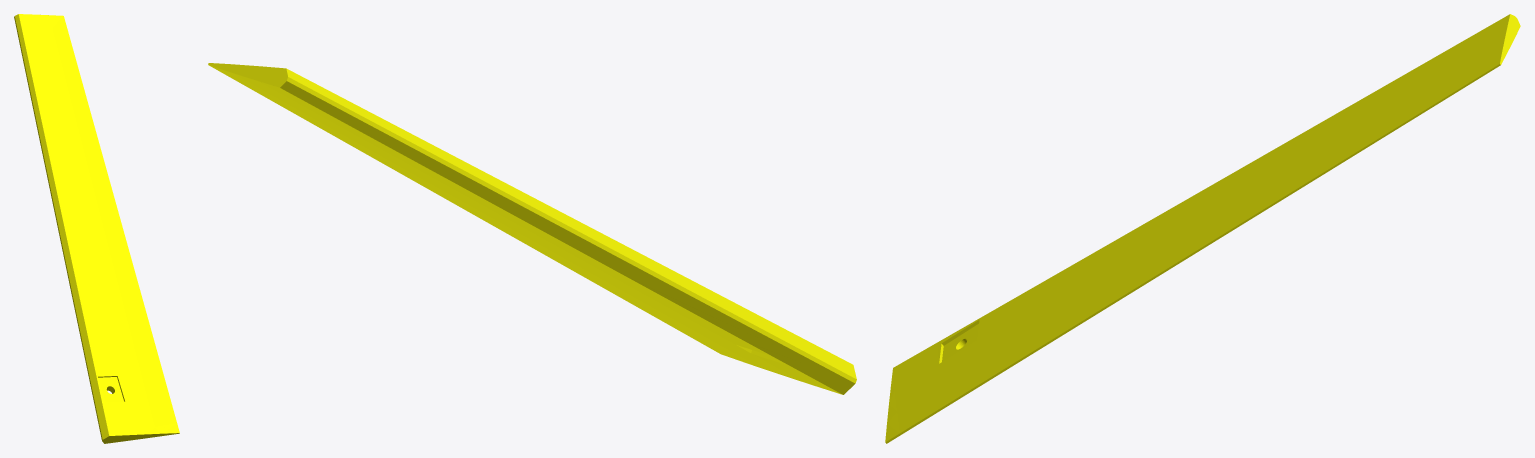
Rendered from believer_taileron_right.dae.
3 renders of one model, left to right at view 1: azimuth 30°, elevation 25°; view 2: azimuth 150°, elevation 25°; view 3: azimuth 270°, elevation 25°, orthographic. The views are drawn at different scales.
Parts seen in each view (by area): view 1: ID2; view 2: ID2; view 3: ID2.
Boxes of the visible parts, <box> form: ID2: <box>14,14,179,443</box>; ID2: <box>208,63,856,394</box>; ID2: <box>885,14,1520,443</box>.
Bounding box in the file's own units: 0.1114 × 0.2607 × 0.2049.
